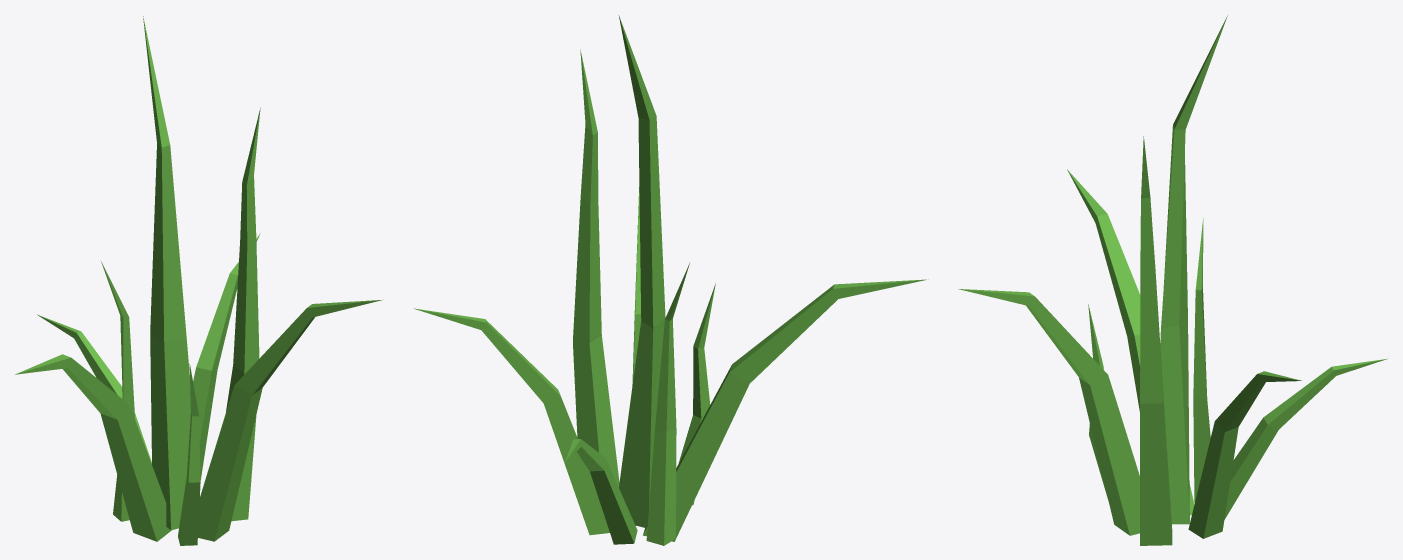
The model's file is BigGrass.fbx.
3 renders of one model, left to right at view 1: azimuth 30°, elevation 25°; view 2: azimuth 150°, elevation 25°; view 3: azimuth 270°, elevation 25°, orthographic. The views are drawn at different scales.
Visible parts, largest first — view 1: Grass1; view 2: Grass1; view 3: Grass1.
Boxes of the visible parts, bbox=[...] form: Grass1: bbox=[15, 16, 383, 545]; Grass1: bbox=[413, 15, 928, 545]; Grass1: bbox=[958, 15, 1387, 545].
Size of the model in its own units: 0.4631 by 0.6077 by 0.467.
